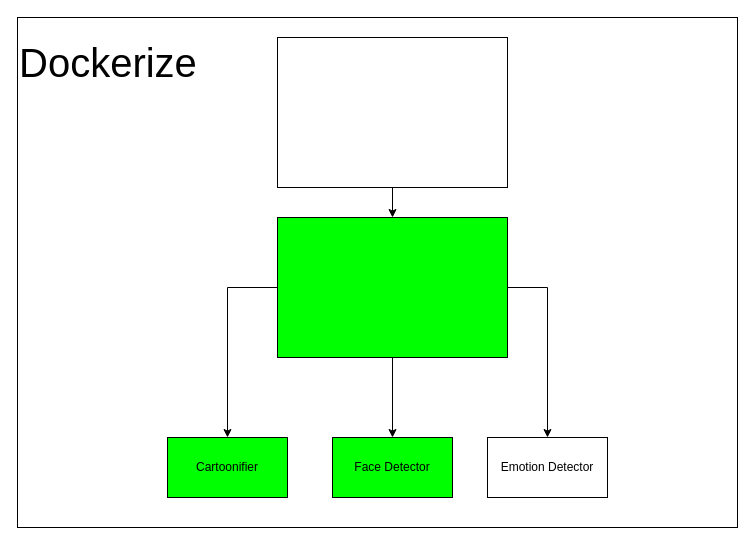
Some shapes in this 755 by 545 pixel diagram are drawn without their labels. Here are the shapes that lost their labels. From the top down, the centre of each, then its label:
pixel 392 112: login login logout signup forget password sso
pixel 392 287: home show project redirect to page
